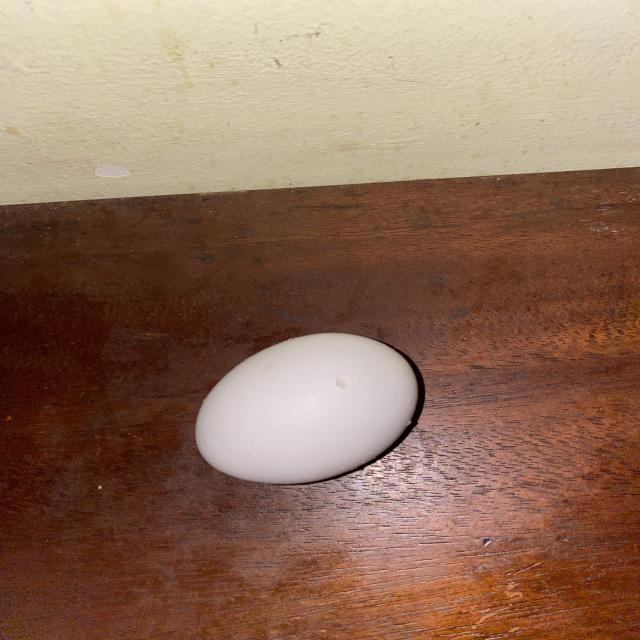egg: (186, 325, 430, 489)
